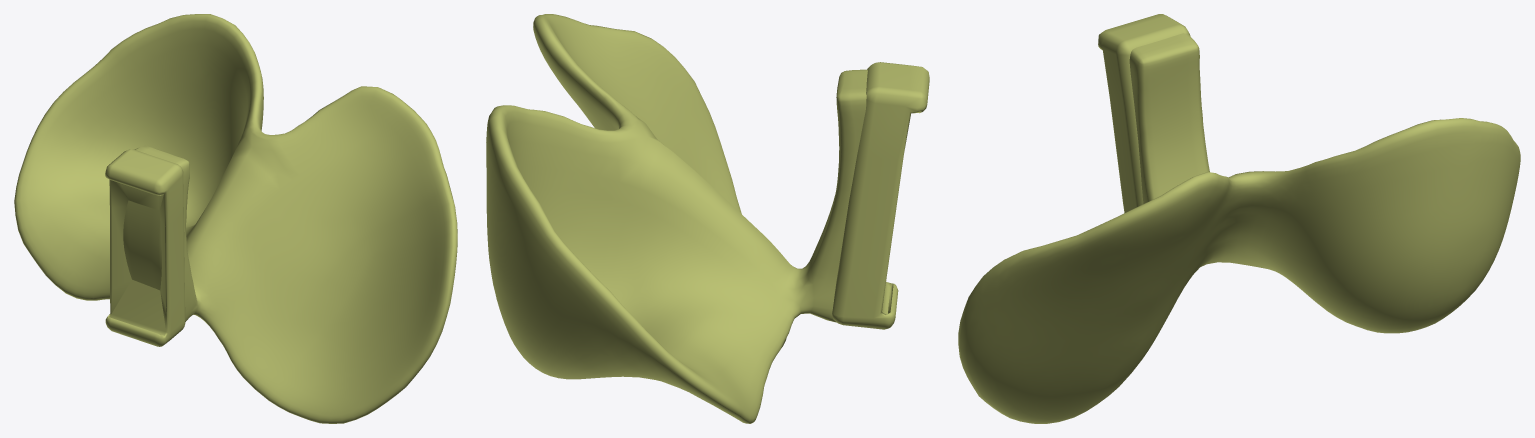
The model's file is TL3_Spacers_BaguetteMetal.001.glb.
3 renders of one model, left to right at view 1: azimuth 30°, elevation 25°; view 2: azimuth 150°, elevation 25°; view 3: azimuth 270°, elevation 25°, orthographic. The views are drawn at different scales.
Visible parts, largest first — view 1: TL3_Spacers_BaguetteMetal.001; view 2: TL3_Spacers_BaguetteMetal.001; view 3: TL3_Spacers_BaguetteMetal.001.
Part boxes in pixels (<box>): TL3_Spacers_BaguetteMetal.001: <box>14,14,457,423</box>; TL3_Spacers_BaguetteMetal.001: <box>486,14,929,423</box>; TL3_Spacers_BaguetteMetal.001: <box>958,14,1520,423</box>.
Bounding box in the file's own units: 0.9096 × 0.7875 × 1.22.
